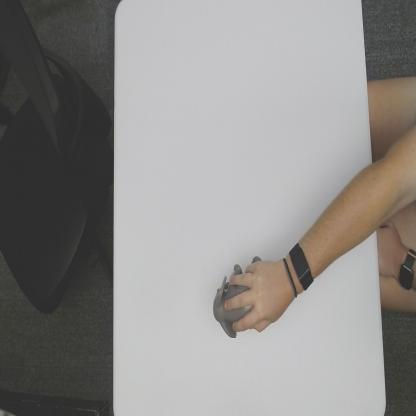Arm: (312, 162, 379, 272)
Elephant: (214, 254, 262, 340)
Hand: (223, 257, 291, 336)
